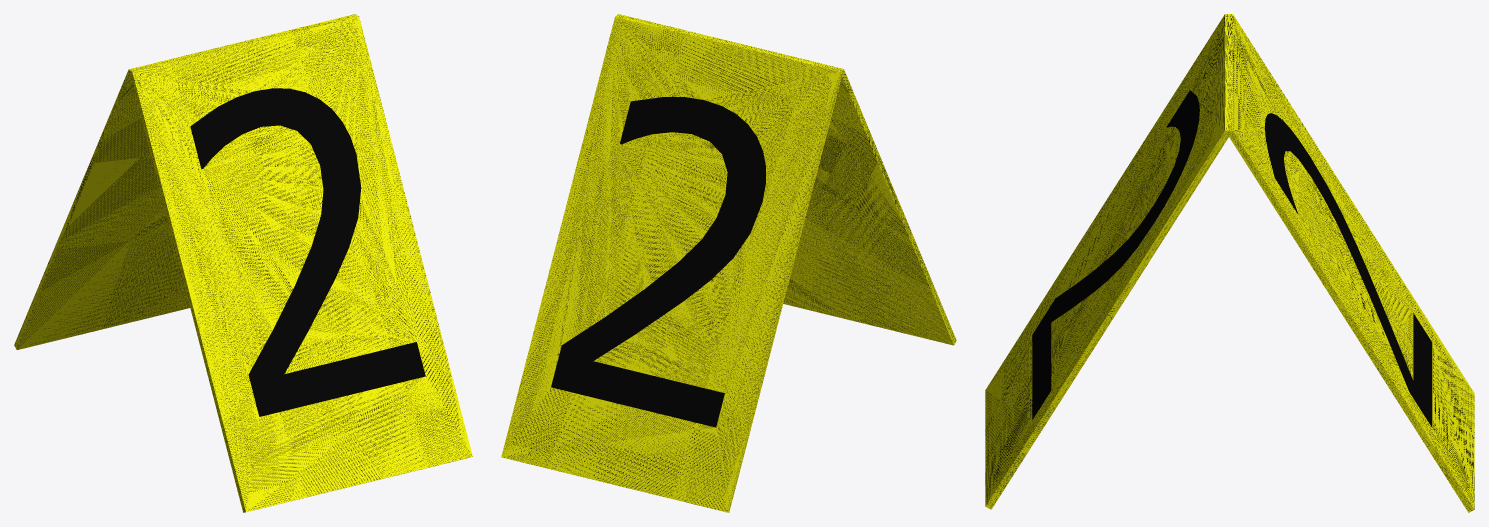
File: B_Two.dae
The picture shows the model from 3 angles, left to right: view 1: azimuth 30°, elevation 25°; view 2: azimuth 150°, elevation 25°; view 3: azimuth 270°, elevation 25°; orthographic projection. The views are drawn at different scales.
Parts seen in each view (by area): view 1: skp44 (×2); view 2: skp44 (×2); view 3: skp44 (×3).
Boxes of the visible parts, box(x1,y1,x2,y2) form: skp44 (×2): box(14, 14, 472, 512); skp44 (×2): box(501, 14, 956, 512); skp44 (×3): box(985, 14, 1474, 512).
Size of the model in its own units: 4 by 7.09 by 6.11.
